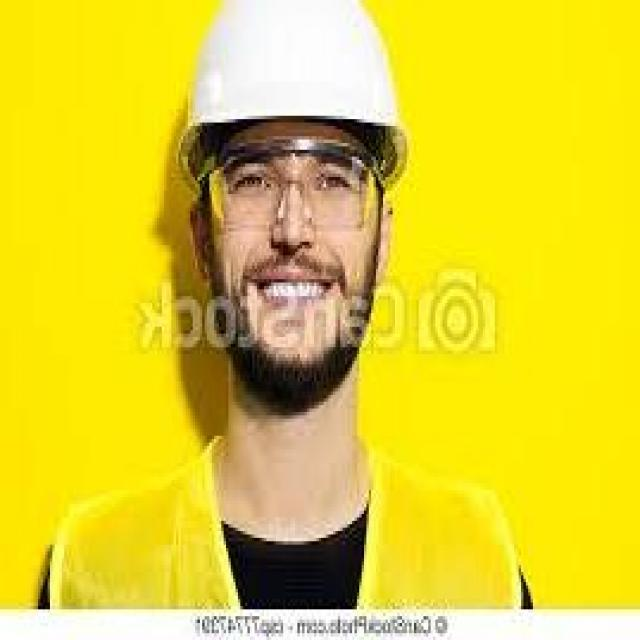Reflective-Jacket: (49, 446, 527, 609)
Safety-Helmet: (172, 1, 416, 174)
